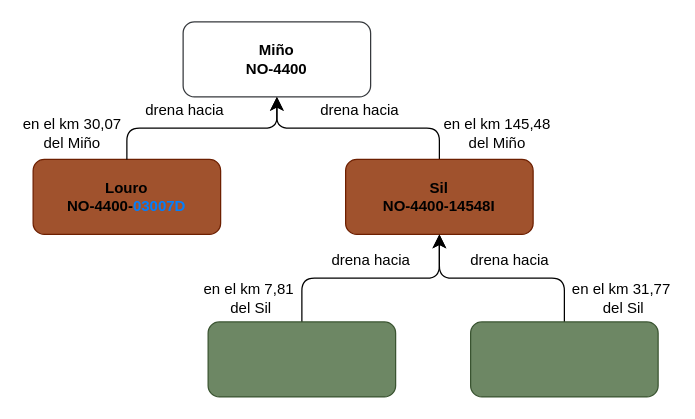
Some shapes in this 695 by 419 pixel diagram are drawn without their labels. Each missing label, with the box of its shape:
Cabe NO-4400 - 14548I - 00781D: (207, 321, 396, 397)
Edo NO-4400 - 14548I - 03177I: (469, 321, 658, 397)
